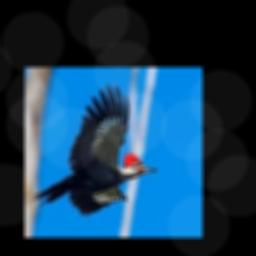Woodpecker: (31, 83, 156, 215)
